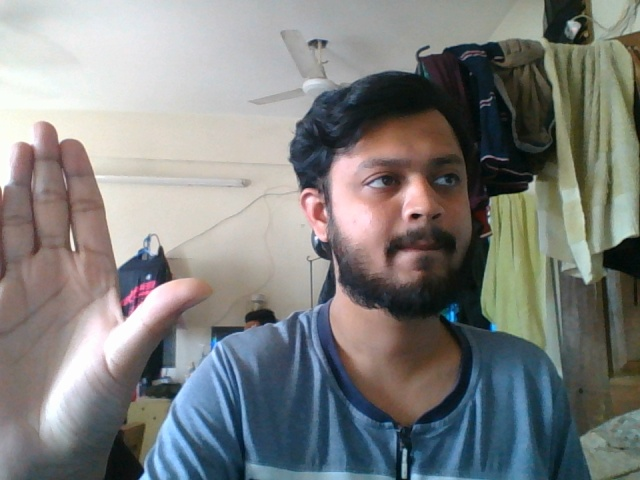a: (1, 113, 221, 480)
